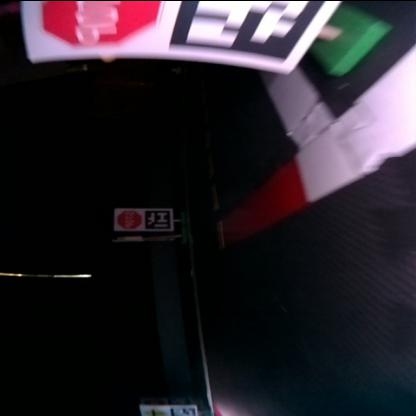Duckie: (170, 65, 180, 71)
Intersection sign: (142, 406, 166, 416)
QR code: (168, 1, 331, 63), (144, 208, 171, 228), (170, 406, 195, 416), (168, 396, 191, 402)
Stop sign: (32, 1, 161, 52), (116, 208, 140, 229), (143, 397, 165, 403)
